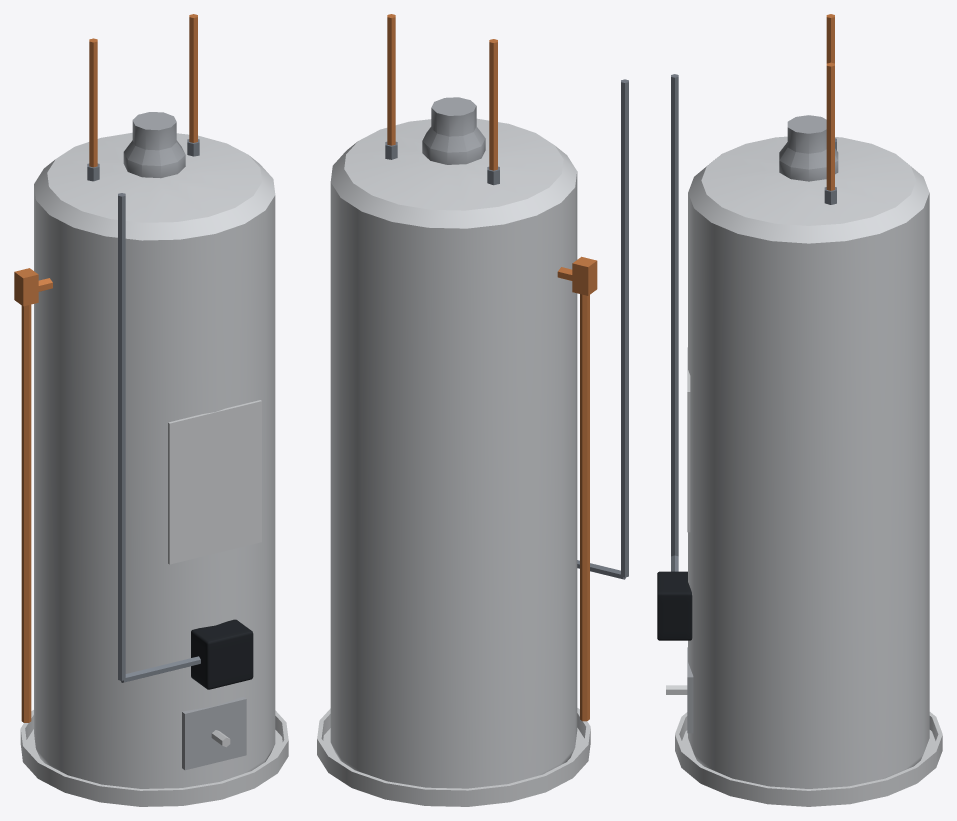
The model's file is water_heater_rheem_prog50.mid.glb.
3 views of the same model, side by side, from view 1: azimuth 30°, elevation 25°; view 2: azimuth 150°, elevation 25°; view 3: azimuth 270°, elevation 25° (orthographic). The views are drawn at different scales.
Parts seen in each view (by area): view 1: water_heater_rheem_prog50; view 2: water_heater_rheem_prog50; view 3: water_heater_rheem_prog50.
Boxes of the visible parts, box(x1,y1,x2,y2) form: water_heater_rheem_prog50: box(14, 14, 288, 806); water_heater_rheem_prog50: box(317, 14, 628, 806); water_heater_rheem_prog50: box(657, 14, 942, 806).
Bounding box in the file's own units: 0.6561 × 1.77 × 0.6461.
